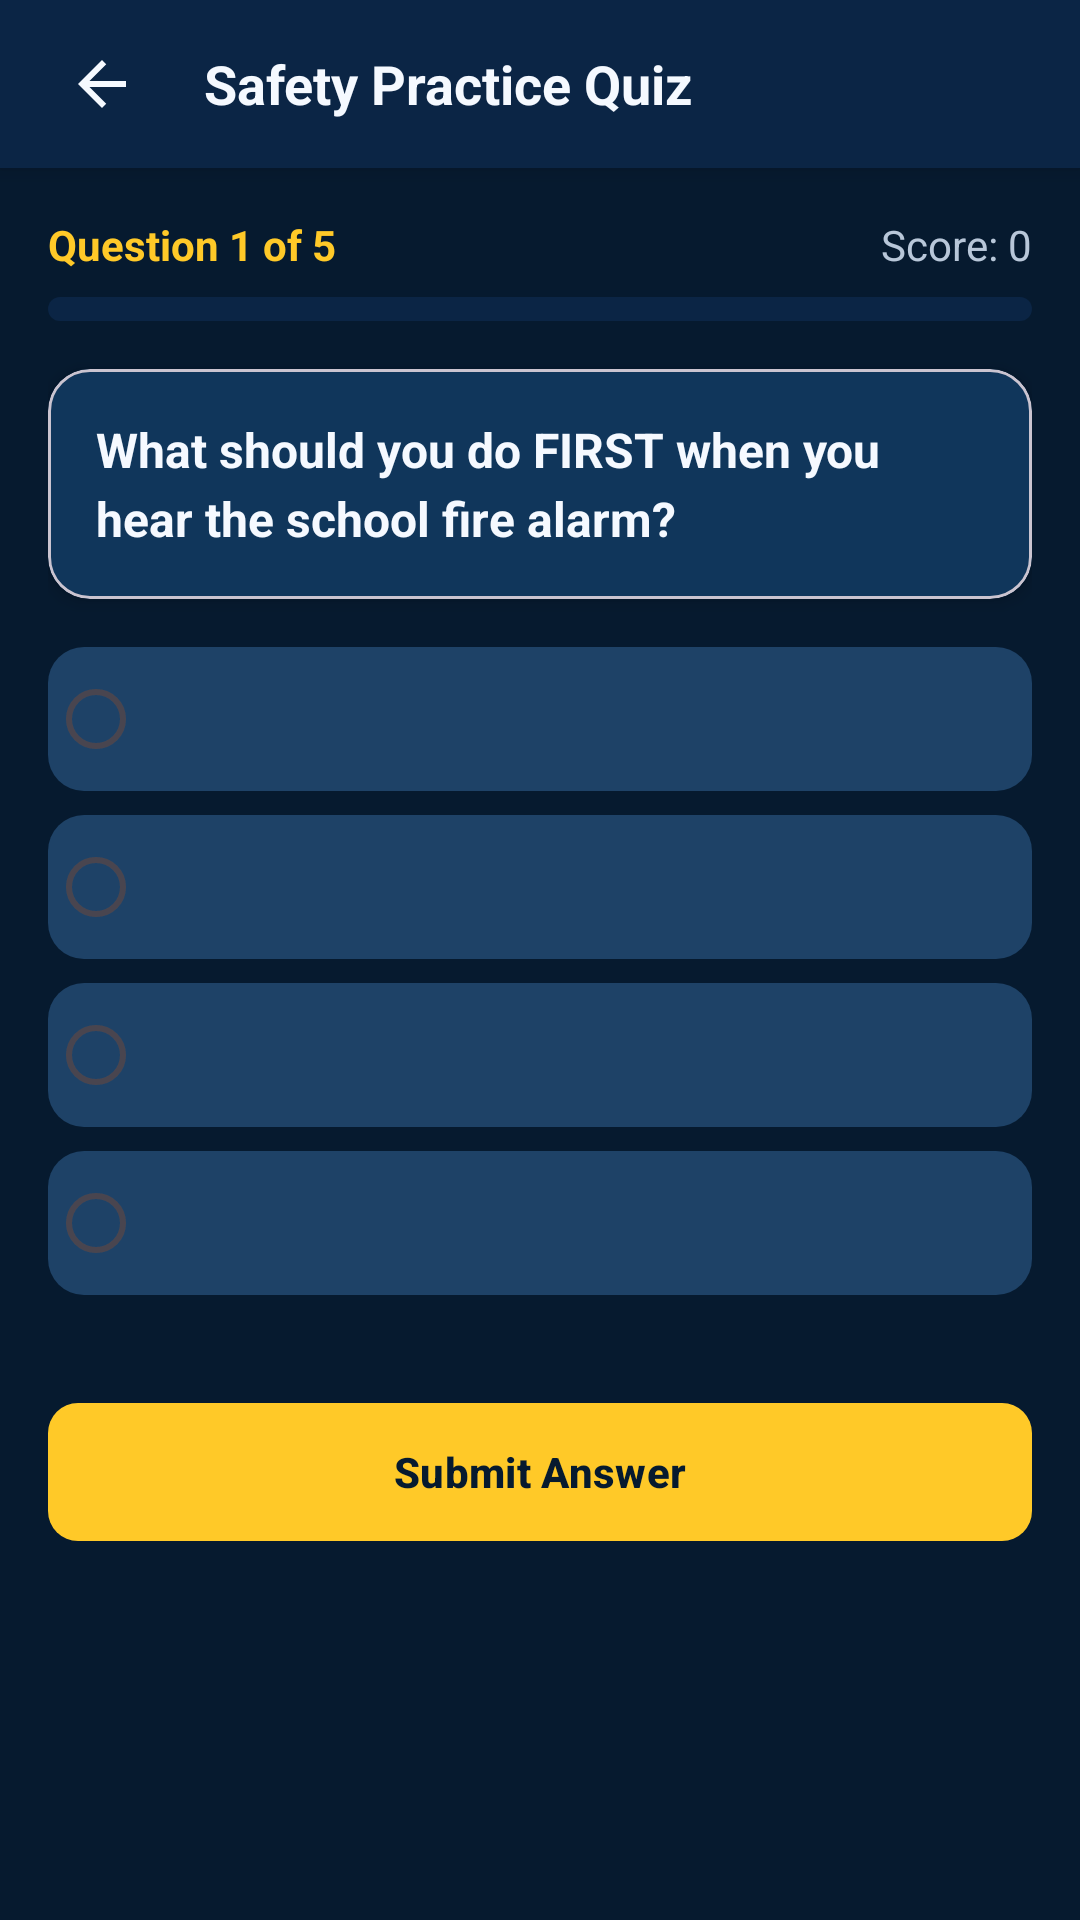

Where icons sit on this 1080×1920 app screen, as (x1, y1, x2, y2):
Back: (78, 60, 126, 108)
